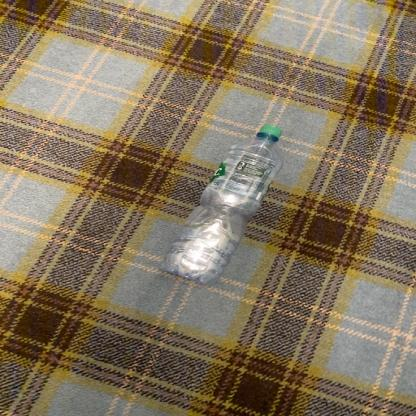trash: (158, 127, 290, 289)
